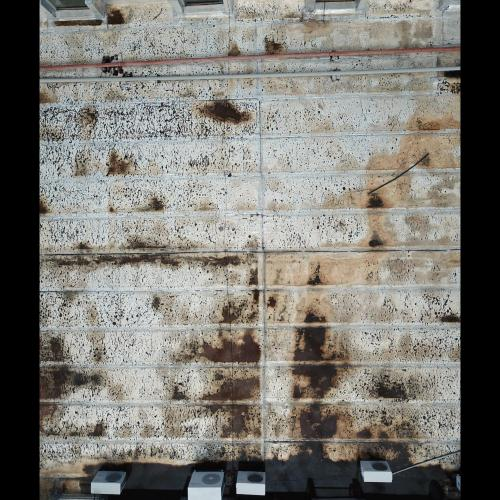conde: (185, 467, 229, 500), (89, 469, 131, 499), (235, 469, 269, 500), (359, 460, 395, 488)
